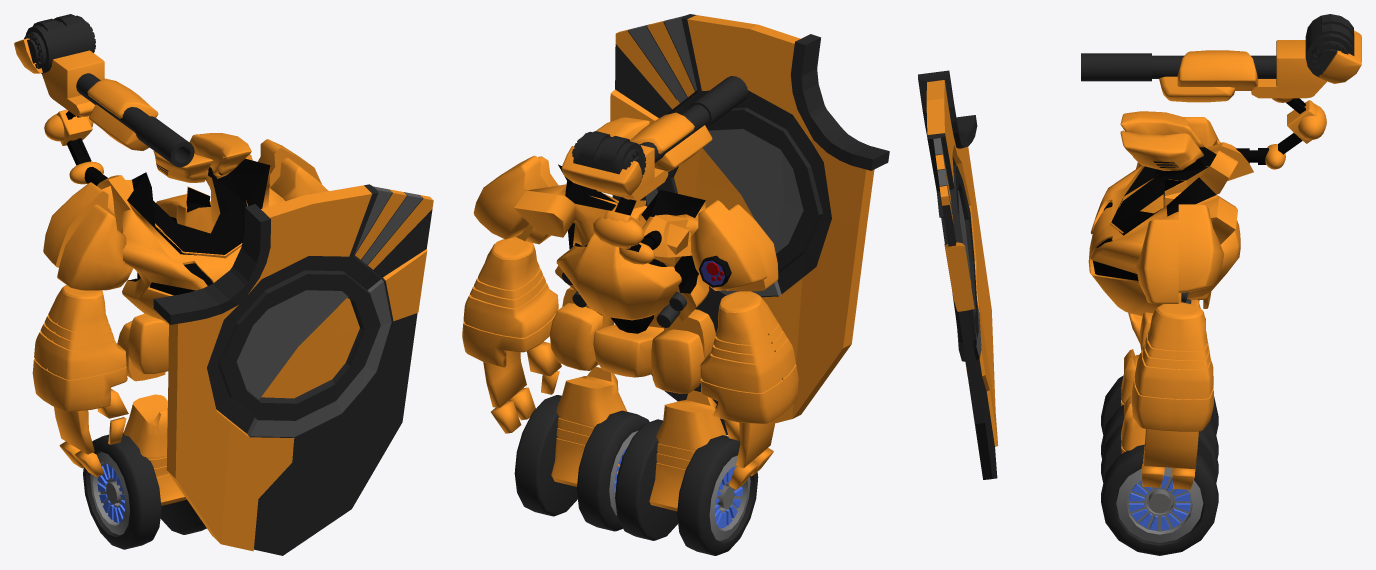
Rendered from Robot_Parts.fbx.
3 renders of one model, left to right at view 1: azimuth 30°, elevation 25°; view 2: azimuth 150°, elevation 25°; view 3: azimuth 270°, elevation 25°, orthographic. The views are drawn at different scales.
Parts seen in each view (by area): view 1: Shield.002, Shield.001, Gun, ArmorSpine.003(2), ArmorForearm.R, Wheel.R_01, ArmorShoulder.R.001, ArmorSpine.003(1), ArmorHand.R, ArmorShin.R.001, ArmorShoulder.R, ArmorPelvis.R (+12 smaller); view 2: Shield.001, Shield.002, Gun, ArmorForearm.R.001, ArmorForearm.L, Wheel.R_01, ArmorSpine.003(4), Wheel.L_02, Wheel.L_01, Wheel.R.03, ArmorSpine.003(1), ArmorSpine.003(2) (+22 smaller); view 3: Gun, Wheel.L_01, Shield.002, ArmorSpine.003(1), Shield.001, ArmorSpine.003(2), ArmorForearm.L.001, ArmorForearm.L, ArmorShoulder.L, ArmorShoulder.L.001, ArmorHand.L, ArmorHead (+10 smaller).
Boxes of the visible parts, x1=… form: Shield.002: x1=217, y1=184, x2=433, y2=555; Shield.001: x1=153, y1=185, x2=380, y2=551; Gun: x1=14, y1=14, x2=194, y2=167; ArmorSpine.003(2): x1=102, y1=172, x2=230, y2=324; ArmorForearm.R: x1=45, y1=289, x2=127, y2=411; Wheel.R_01: x1=83, y1=433, x2=161, y2=549; ArmorShoulder.R.001: x1=57, y1=204, x2=133, y2=290; ArmorSpine.003(1): x1=206, y1=154, x2=284, y2=268; ArmorHand.R: x1=54, y1=389, x2=128, y2=477; ArmorShin.R.001: x1=123, y1=396, x2=176, y2=505; ArmorShoulder.R: x1=43, y1=182, x2=115, y2=267; ArmorPelvis.R: x1=128, y1=313, x2=168, y2=374; Shield.001: x1=671, y1=15, x2=889, y2=423; Shield.002: x1=610, y1=14, x2=823, y2=435; Gun: x1=561, y1=76, x2=747, y2=200; ArmorForearm.R.001: x1=700, y1=297, x2=785, y2=423; ArmorForearm.L: x1=462, y1=242, x2=547, y2=367; Wheel.R_01: x1=677, y1=435, x2=758, y2=555; ArmorSpine.003(4): x1=595, y1=200, x2=681, y2=320; Wheel.L_02: x1=576, y1=410, x2=649, y2=531; Wheel.L_01: x1=514, y1=395, x2=577, y2=516; Wheel.R.03: x1=615, y1=419, x2=677, y2=540; ArmorSpine.003(1): x1=514, y1=164, x2=618, y2=307; ArmorSpine.003(2): x1=641, y1=189, x2=709, y2=327; Gun: x1=1081, y1=14, x2=1361, y2=102; Wheel.L_01: x1=1101, y1=444, x2=1218, y2=555; Shield.002: x1=927, y1=133, x2=997, y2=479; ArmorSpine.003(1): x1=1088, y1=177, x2=1237, y2=316; Shield.001: x1=918, y1=70, x2=998, y2=446; ArmorSpine.003(2): x1=1088, y1=139, x2=1237, y2=260; ArmorForearm.L.001: x1=1132, y1=302, x2=1179, y2=431; ArmorForearm.L: x1=1171, y1=302, x2=1213, y2=431; ArmorShoulder.L: x1=1178, y1=204, x2=1224, y2=292; ArmorShoulder.L.001: x1=1136, y1=219, x2=1178, y2=303; ArmorHand.L: x1=1141, y1=429, x2=1198, y2=489; ArmorHead: x1=1120, y1=130, x2=1203, y2=170.
Bounding box in the file's own units: 175 × 254 × 221.
